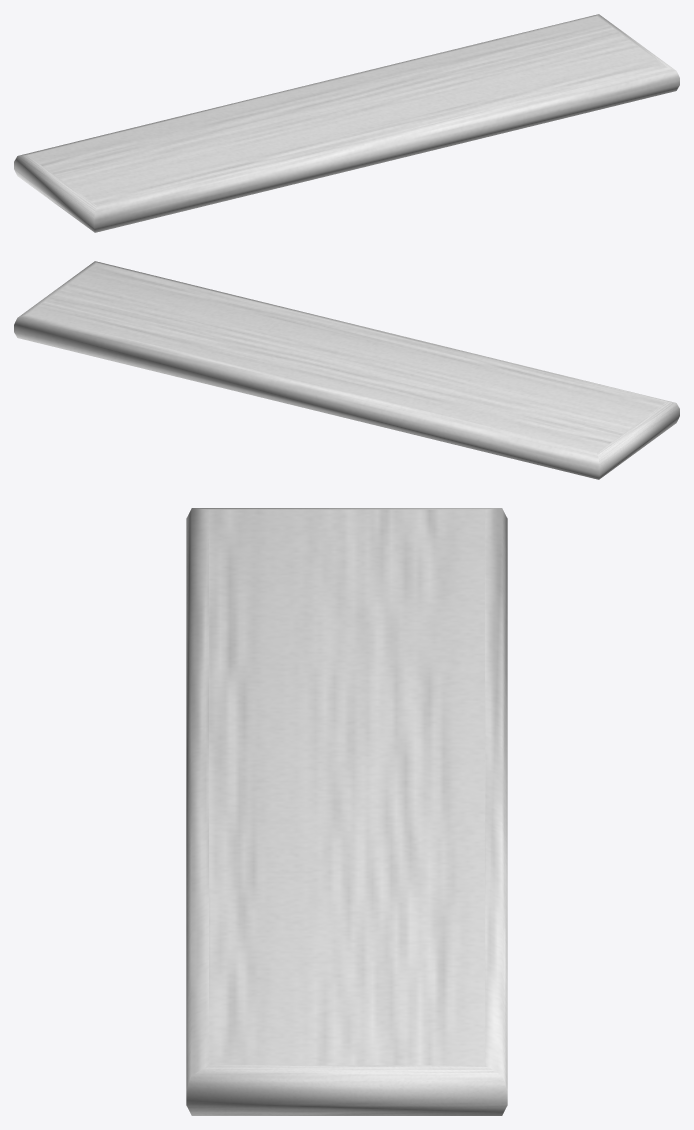
The model's file is Straight_Shelving_01.FBX.
3 renders of one model, top to bottom at view 1: azimuth 30°, elevation 25°; view 2: azimuth 150°, elevation 25°; view 3: azimuth 270°, elevation 25°, orthographic. The views are drawn at different scales.
Parts seen in each view (by area): view 1: Shelf_Straight; view 2: Shelf_Straight; view 3: Shelf_Straight.
Part boxes in pixels (<box>): Shelf_Straight: <box>14,14,679,232</box>; Shelf_Straight: <box>14,261,679,479</box>; Shelf_Straight: <box>186,508,507,1115</box>.
Bounding box in the file's own units: 200 × 8 × 47.55.
